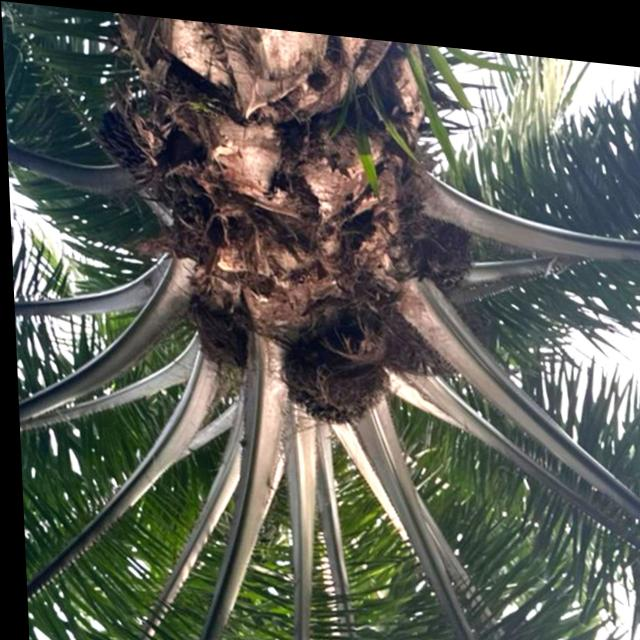unripe: (272, 330, 390, 426)
